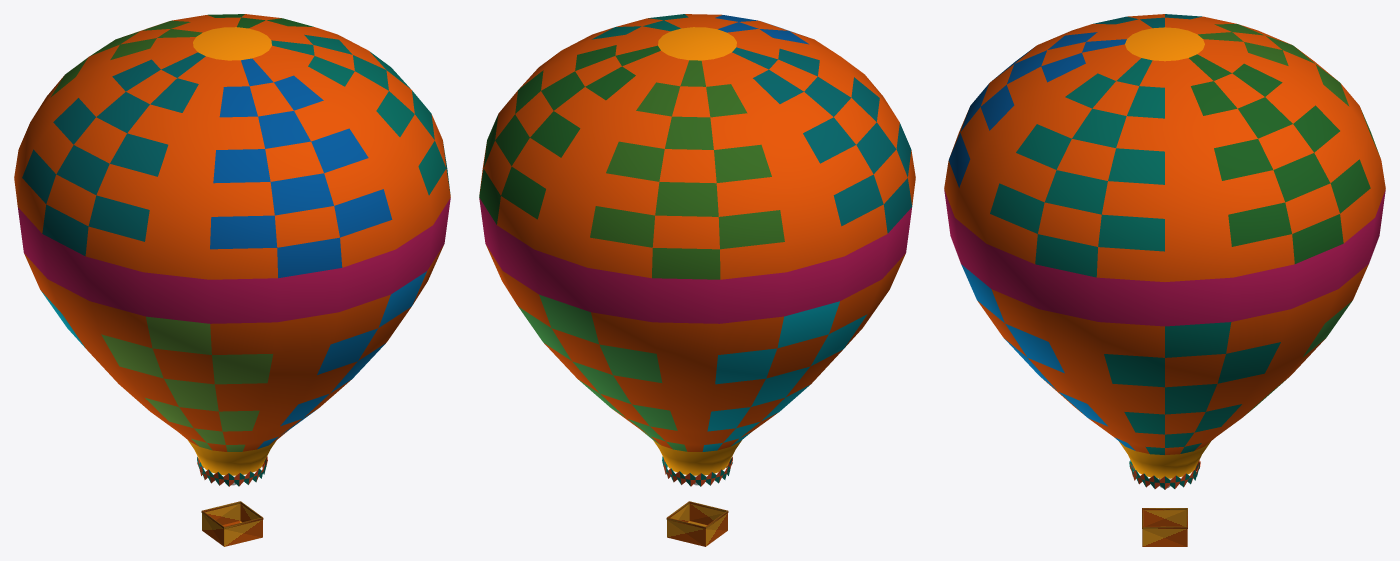
3 views of the same model, side by side, from view 1: azimuth 30°, elevation 25°; view 2: azimuth 150°, elevation 25°; view 3: azimuth 270°, elevation 25° (orthographic).
Visible parts, largest first — view 1: globo1, canasta_globo1, Cilindro; view 2: globo1, canasta_globo1, Cilindro; view 3: globo1, canasta_globo1, Cilindro.
Part boxes in pixels (x1,y1,x2,y2): globo1: [14, 14, 450, 475]; canasta_globo1: [201, 501, 263, 546]; Cilindro: [197, 456, 267, 486]; globo1: [479, 14, 915, 475]; canasta_globo1: [666, 501, 728, 546]; Cilindro: [662, 456, 732, 486]; globo1: [944, 14, 1385, 478]; canasta_globo1: [1142, 508, 1187, 546]; Cilindro: [1129, 460, 1200, 489].
Size of the model in its own units: 2621 by 3248 by 2621.
Materials: 2 (1 with a texture image).
